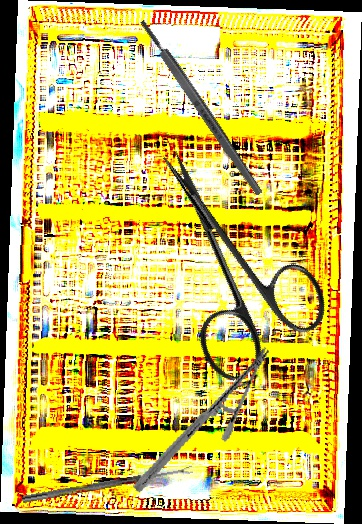Iris Scissors: (108, 122, 340, 387)
Needle Holder: (132, 323, 272, 516)
Scalpel Handle: (137, 17, 265, 198)
Surgical Spoon: (21, 466, 194, 504)
